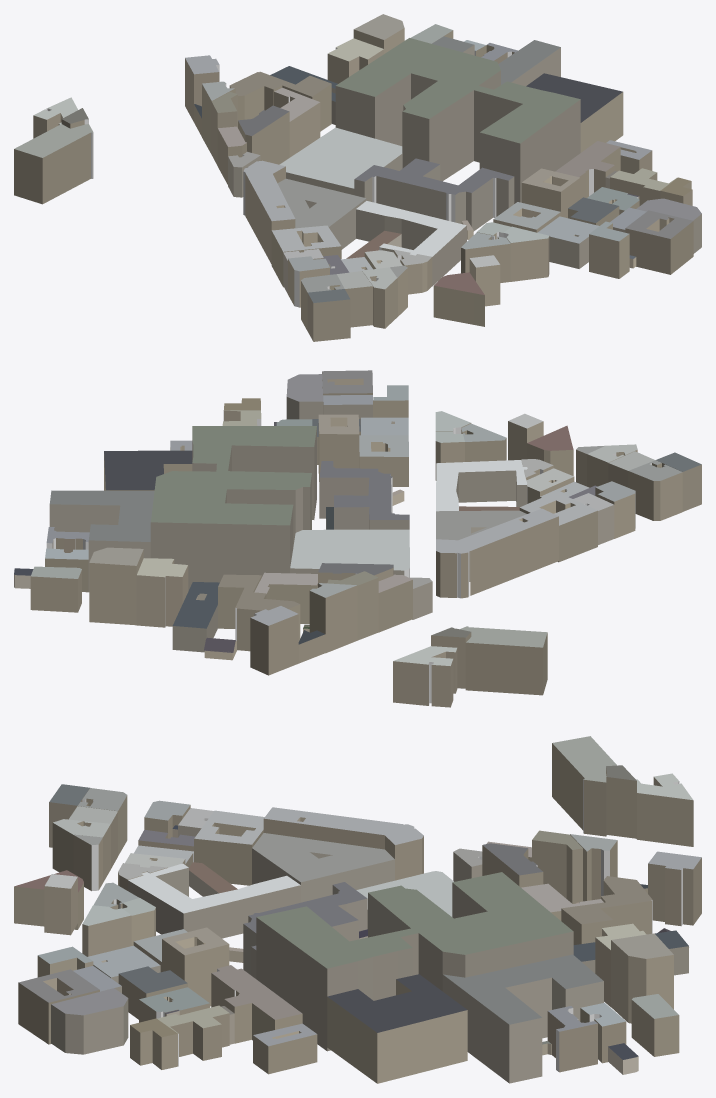
3 renders of one model, top to bottom at view 1: azimuth 30°, elevation 25°; view 2: azimuth 150°, elevation 25°; view 3: azimuth 270°, elevation 25°, orthographic. The views are drawn at different scales.
Parts seen in each view (by area): view 1: tuile; view 2: tuile; view 3: tuile.
Boxes of the visible parts, x1=… form: tuile: x1=14, y1=14, x2=701, y2=341; tuile: x1=14, y1=370, x2=701, y2=707; tuile: x1=14, y1=736, x2=701, y2=1083.
Bounding box in the file's own units: 281 × 38.03 × 278.
